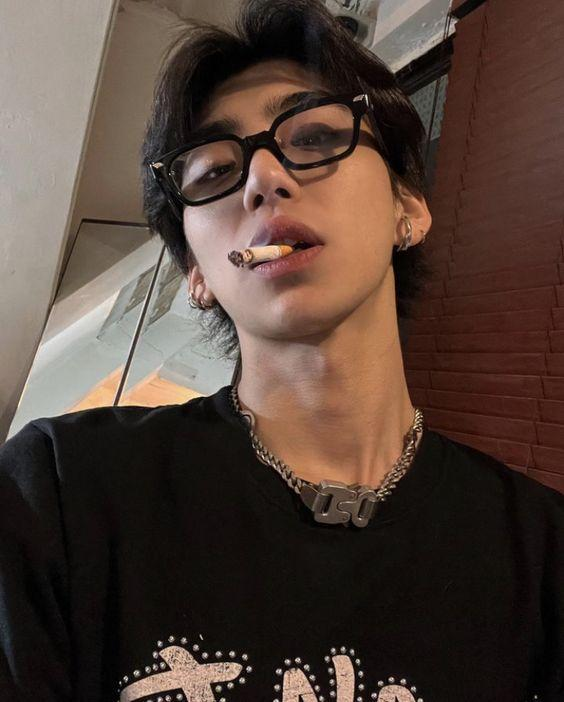cigarette: (227, 244, 295, 267)
